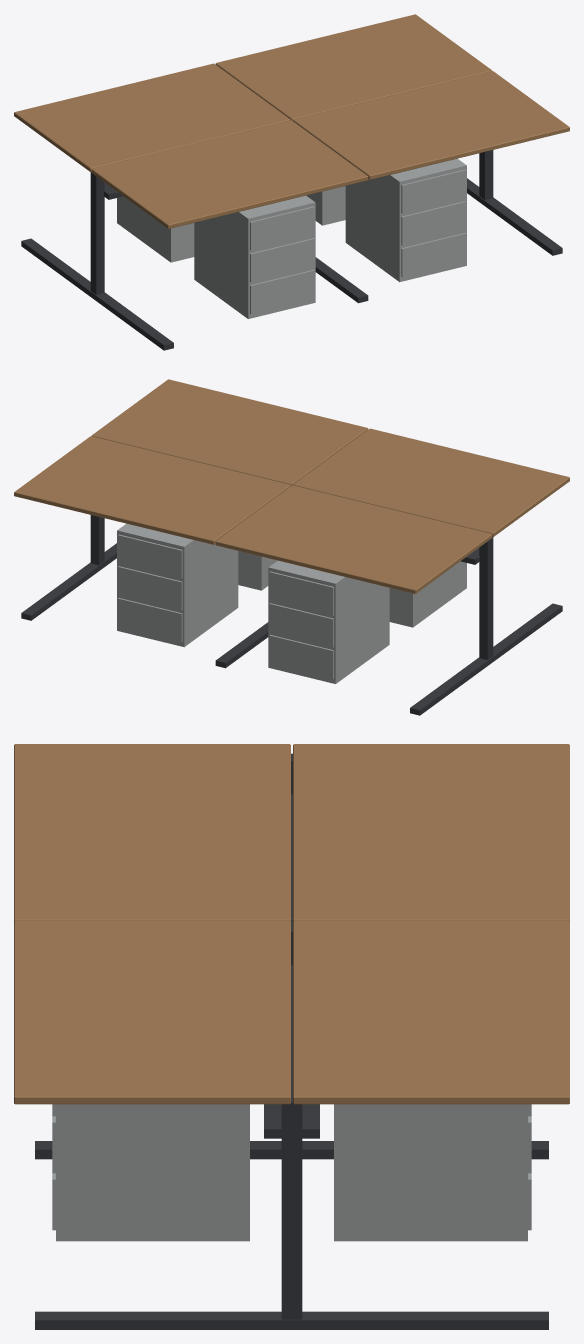
The model's file is prop_workstation_pod.glb.
The picture shows the model from 3 angles, top to bottom: view 1: azimuth 30°, elevation 25°; view 2: azimuth 150°, elevation 25°; view 3: azimuth 270°, elevation 25°; orthographic projection. The views are drawn at different scales.
Parts seen in each view (by area): view 1: Pod; view 2: Pod; view 3: Pod.
Part boxes in pixels (x1,y1,x2,y2): Pod: (14, 14, 569, 350); Pod: (14, 379, 569, 715); Pod: (14, 744, 569, 1329).
Size of what is drawn, in the model's own units: 2.39 by 0.74 by 1.59.
